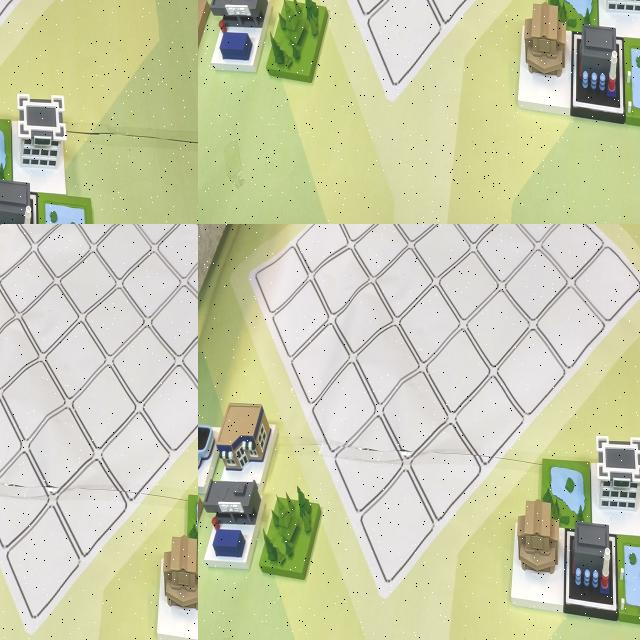bus_stop: (205, 477, 264, 589), (0, 0, 27, 98), (618, 524, 640, 635), (376, 0, 428, 45)
factory: (564, 509, 618, 627), (0, 79, 30, 174), (0, 429, 27, 530), (330, 0, 380, 46)
fish_pool: (0, 45, 26, 131), (314, 0, 365, 34)
forest: (264, 486, 323, 584), (55, 543, 108, 640), (0, 0, 50, 67), (517, 0, 581, 48)
gogo_shop: (0, 38, 28, 134), (390, 0, 444, 41), (198, 405, 223, 493)
research_build: (593, 436, 640, 537), (471, 0, 527, 73), (0, 31, 29, 137)
restaurant: (218, 385, 278, 478), (423, 0, 477, 46), (0, 0, 24, 42)
silicate_rock: (0, 445, 26, 544), (482, 0, 537, 45), (198, 489, 217, 578), (0, 0, 27, 46)
volunteer_center: (514, 498, 566, 624), (4, 538, 54, 633), (0, 64, 26, 168), (405, 0, 455, 44)
wet_land: (541, 451, 592, 530), (345, 0, 403, 50), (0, 538, 29, 621), (0, 154, 30, 224)
